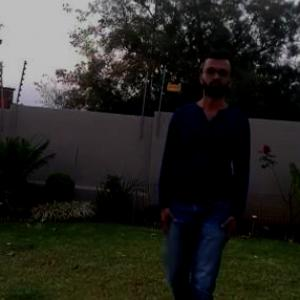follow: (158, 56, 247, 299)
